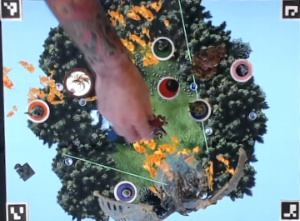blue: (186, 96, 211, 121)
green: (149, 35, 175, 61)
orange: (22, 96, 58, 127)
pink: (230, 56, 253, 82)
red: (155, 73, 182, 101)
violet: (111, 178, 137, 204)
